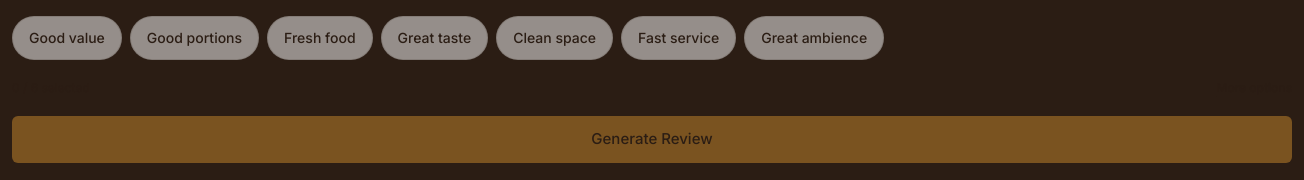
Test: TagSelector › keeps the review-generation button disabled until at least one tag is selected
Check: the button "Generate Review" is disabled, box x1=12 y1=116 x2=1292 y2=162
Step 1. Click the button "Good value" → (67, 38), box x1=12 y1=16 x2=122 y2=60
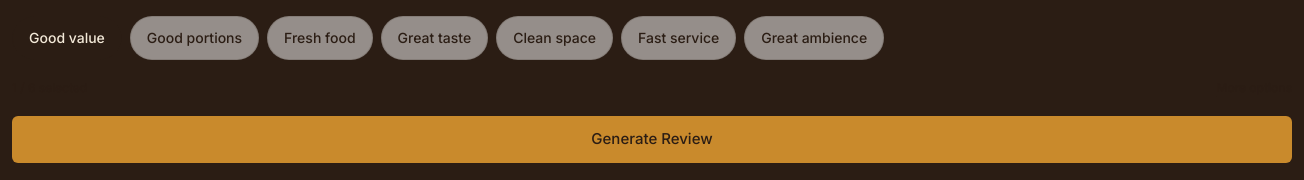
Check: the button "Generate Review" is enabled, box x1=12 y1=116 x2=1292 y2=162
